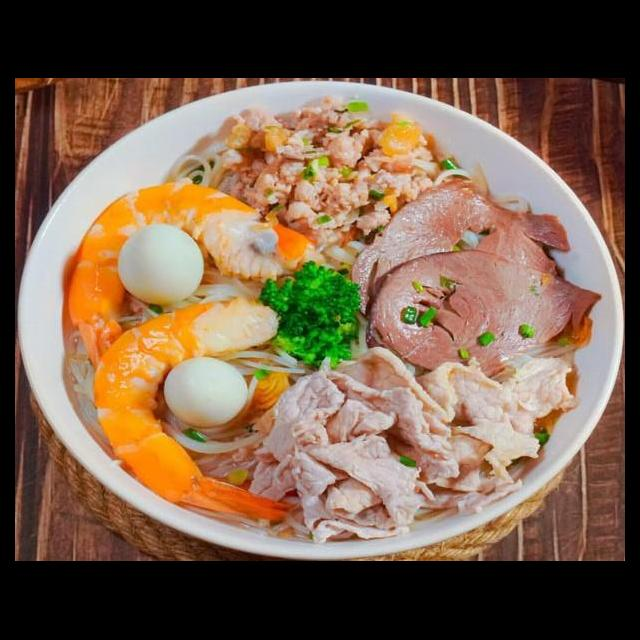banh hu tieu: (164, 133, 245, 205)
hu tieu: (18, 115, 625, 557)
thit bam: (205, 90, 449, 256)
thit heo: (322, 366, 463, 488), (320, 342, 505, 426), (303, 432, 426, 532), (245, 351, 349, 466), (476, 352, 582, 444), (294, 474, 411, 550), (438, 414, 545, 488), (312, 394, 400, 449)
tom: (63, 176, 320, 386), (87, 294, 302, 530)
trung: (112, 220, 210, 308), (159, 354, 249, 432)
